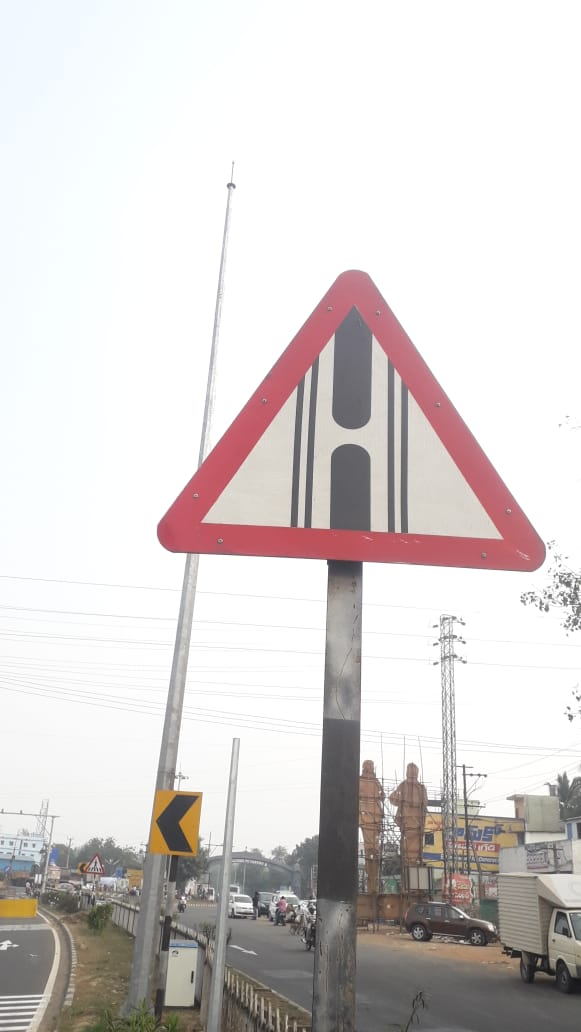highway go straight: (159, 247, 556, 580)
